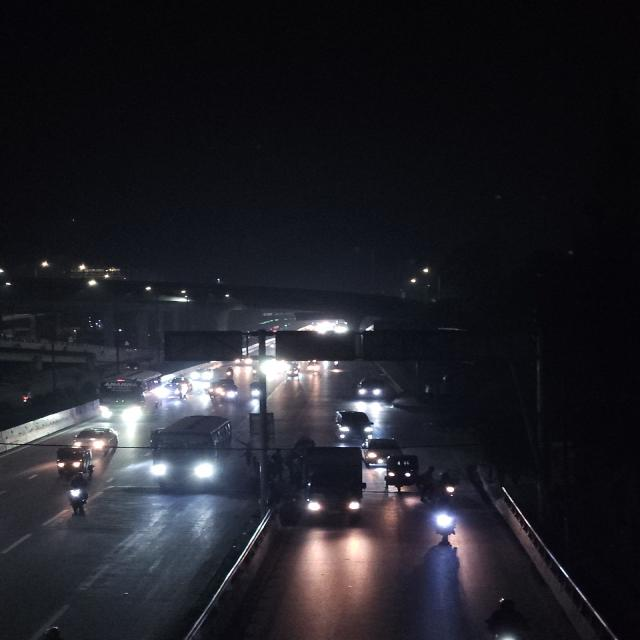bus: (147, 412, 235, 492), (98, 370, 166, 420)
car: (331, 407, 379, 441), (362, 436, 404, 466), (71, 425, 120, 450), (354, 374, 390, 404), (168, 374, 192, 402)
cng: (383, 453, 423, 493), (52, 445, 97, 477), (208, 377, 241, 403), (248, 378, 269, 400)
motorcycle: (478, 594, 541, 640), (426, 506, 464, 550), (63, 472, 95, 516), (437, 468, 462, 504), (223, 366, 236, 379)
truck: (299, 443, 371, 529)
